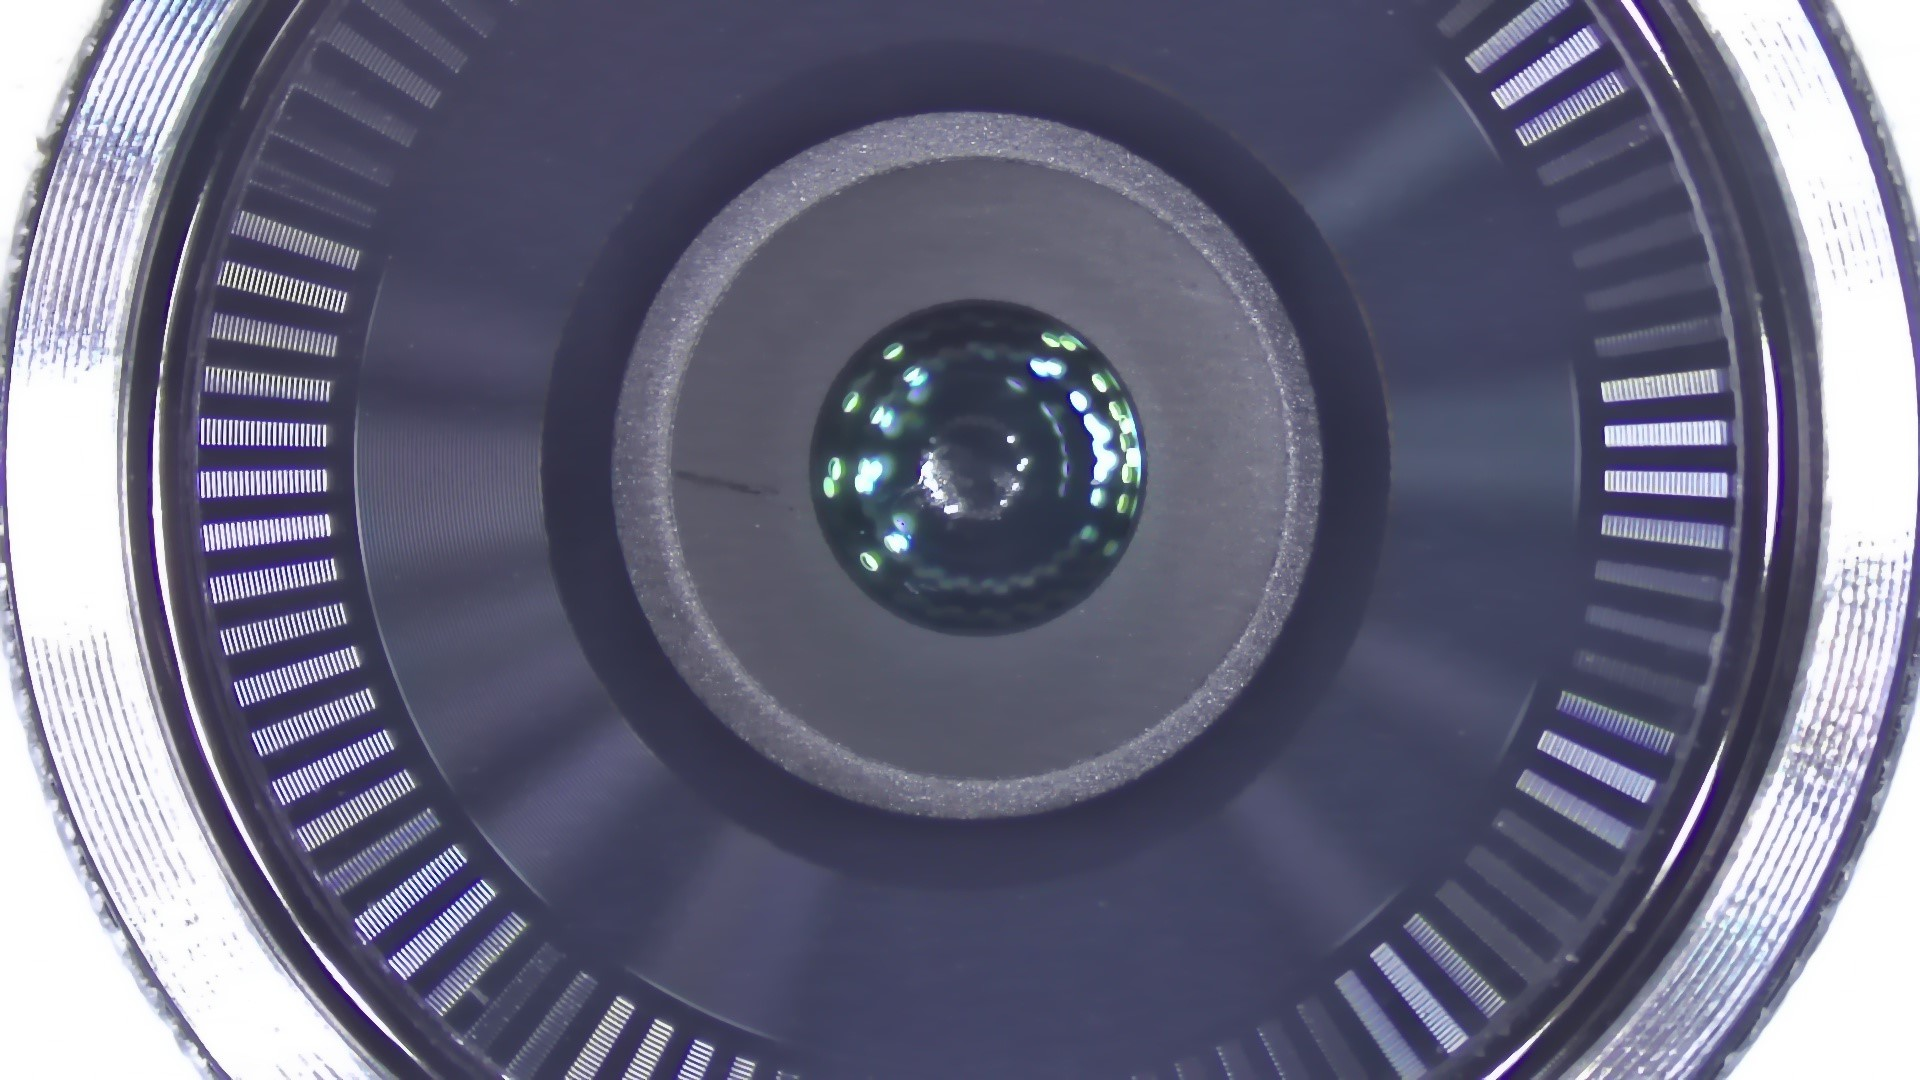crack: (646, 430, 811, 530)
